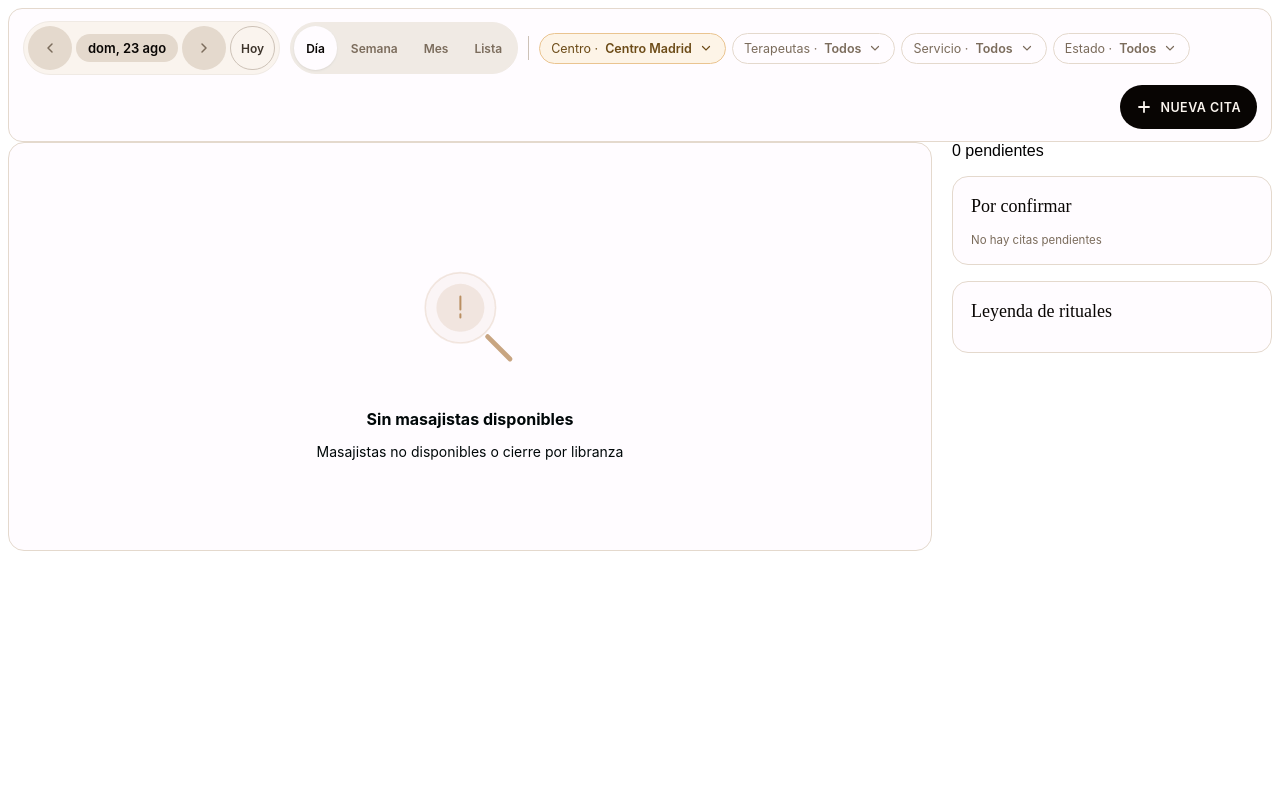
Scenario: AdminAgendaView — cross-view day navigation › clicking a Week day header switches to Day view for that date
This screenshot has width=1280, height=800.
Step 1. Click the button "Semana" → {"x": 374, "y": 48}, box top-left (339, 26), bottom-right (410, 70)
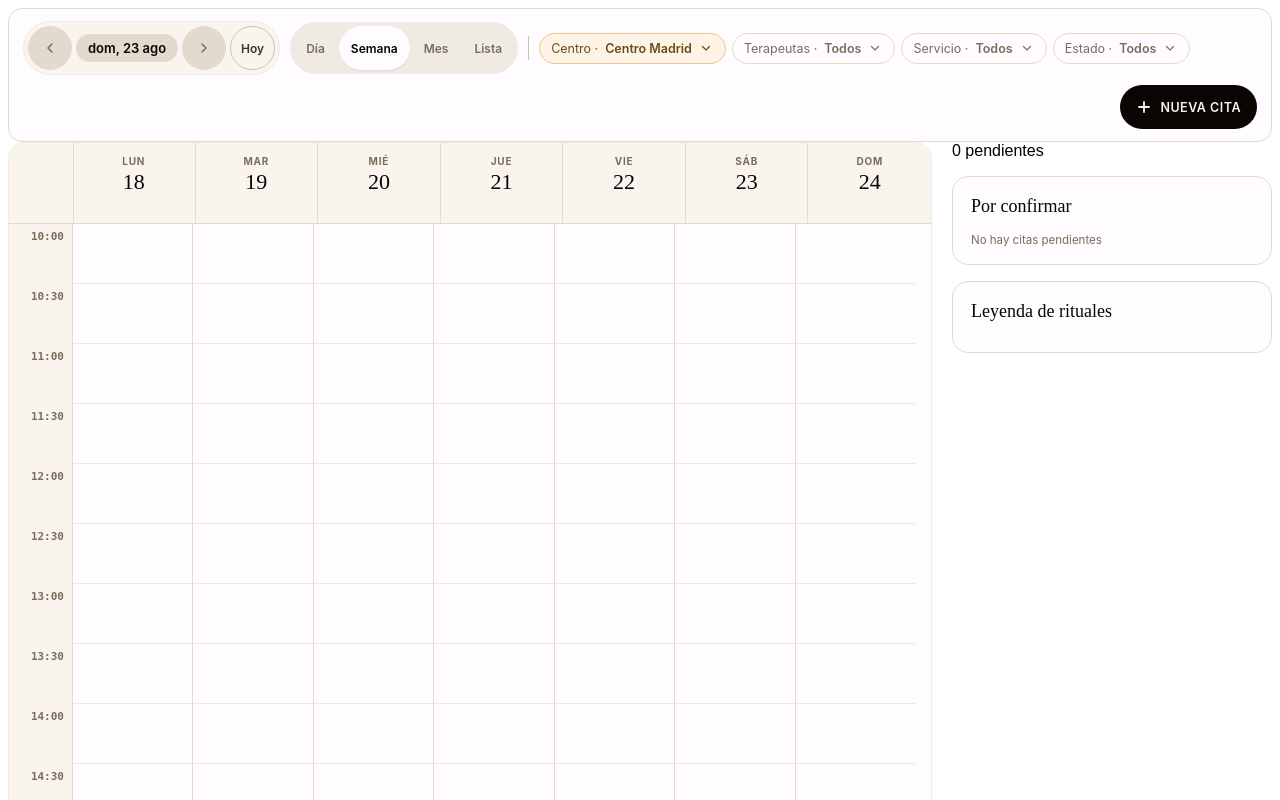
Step 2. Click the button named "Ver el día VIE 22" → {"x": 625, "y": 183}, box top-left (563, 143), bottom-right (686, 223)
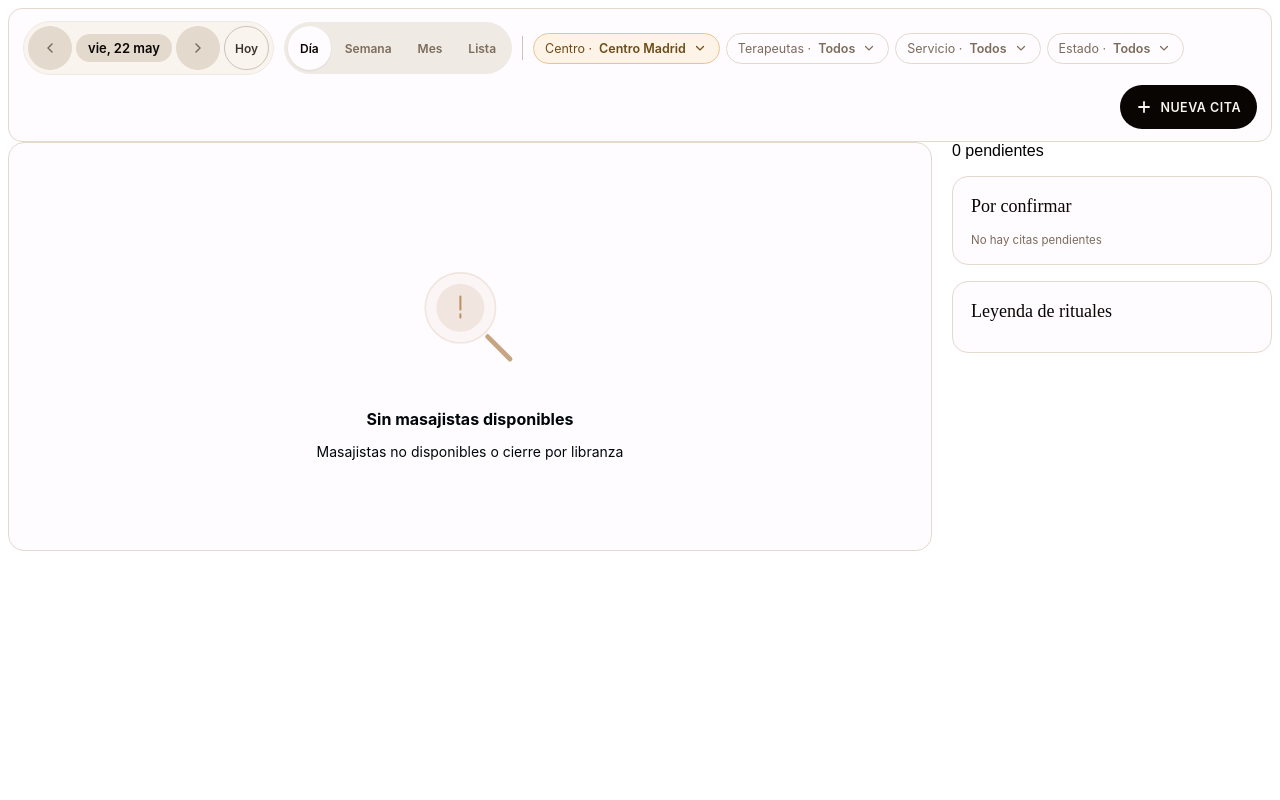
Result: the element named "Calendario de agenda" is shown at top-left (8, 142), bottom-right (932, 551)
